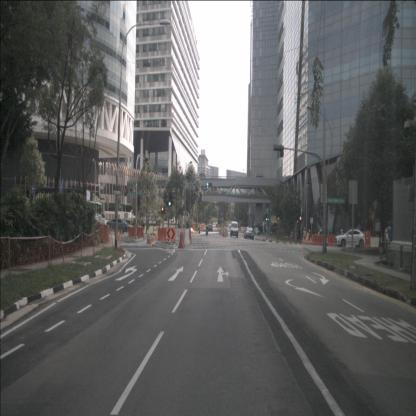human-pedestrian-adult: (290, 229, 294, 243), (186, 220, 189, 235), (179, 221, 182, 235)
movable_object-barrier: (96, 223, 110, 245), (128, 226, 144, 240), (158, 228, 174, 242), (176, 228, 188, 242), (327, 234, 339, 247), (360, 236, 371, 249), (178, 230, 185, 249), (312, 234, 324, 245), (370, 236, 381, 247), (184, 229, 191, 244), (188, 227, 192, 244)
movable_object-trafficcone: (146, 232, 150, 245), (151, 232, 155, 245), (149, 232, 152, 245), (118, 228, 121, 241), (154, 230, 157, 242), (120, 228, 123, 238)
vehicle-car: (334, 229, 366, 248), (106, 218, 133, 234), (230, 221, 239, 238), (245, 226, 254, 240), (255, 227, 260, 235), (208, 224, 212, 232)
vehicle-motorcycle: (205, 222, 209, 236)
vehicle-truck: (38, 188, 102, 236)
